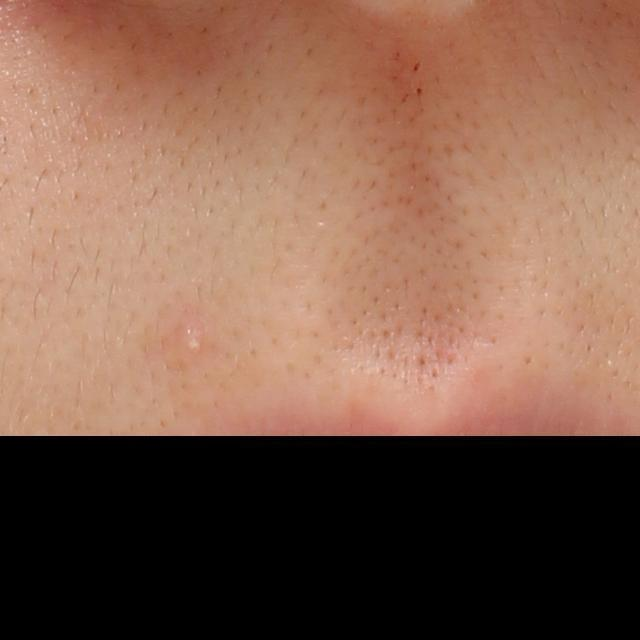pustule: (178, 328, 200, 357)
